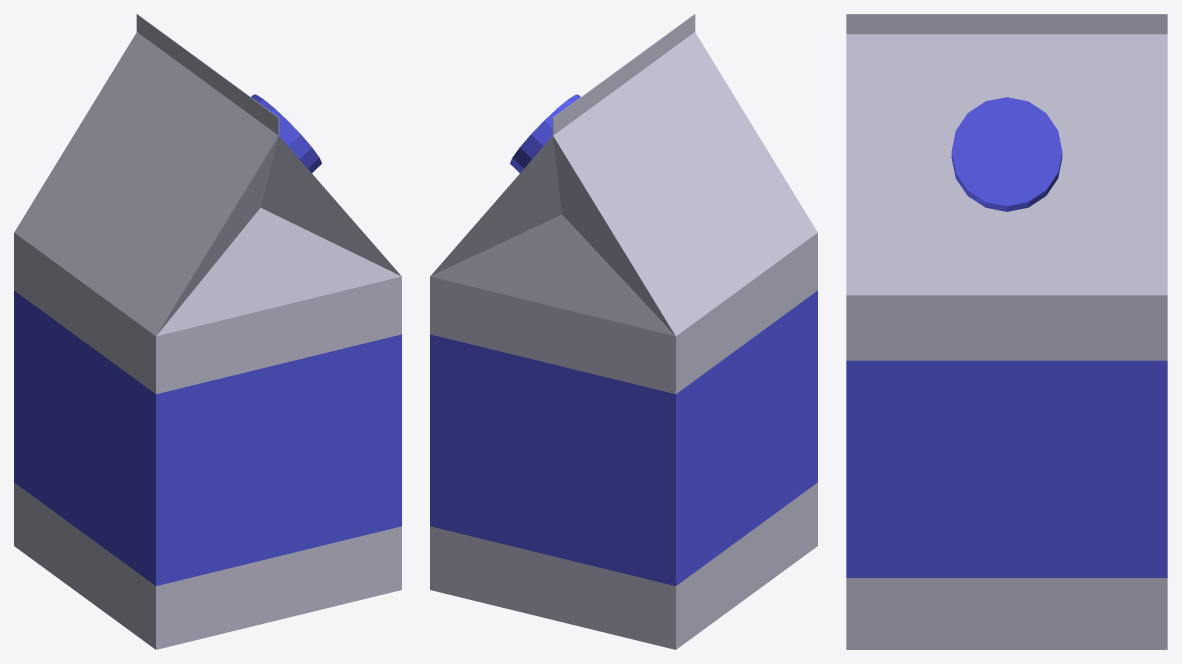
File: carton-small.fbx
The picture shows the model from 3 angles, left to right: view 1: azimuth 30°, elevation 25°; view 2: azimuth 150°, elevation 25°; view 3: azimuth 270°, elevation 25°; orthographic projection. The views are drawn at different scales.
Parts seen in each view (by area): view 1: Cube, Cylinder; view 2: Cube, Cylinder; view 3: Cube, Cylinder.
Boxes of the visible parts, x1=… form: Cube: x1=14, y1=14, x2=401, y2=649; Cylinder: x1=251, y1=94, x2=321, y2=172; Cube: x1=430, y1=14, x2=817, y2=649; Cylinder: x1=510, y1=94, x2=580, y2=172; Cube: x1=846, y1=14, x2=1167, y2=649; Cylinder: x1=951, y1=97, x2=1062, y2=211.
Size of the model in its own units: 375 by 732 by 375.
